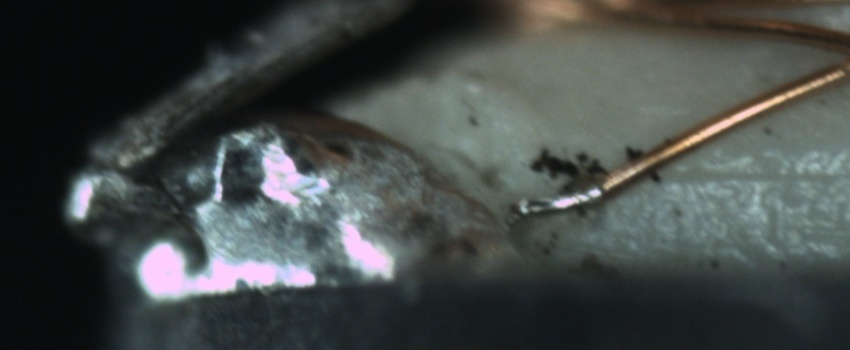DL: (667, 140, 850, 206)
TS: (516, 183, 606, 216)
TTCW: (507, 170, 626, 220)
